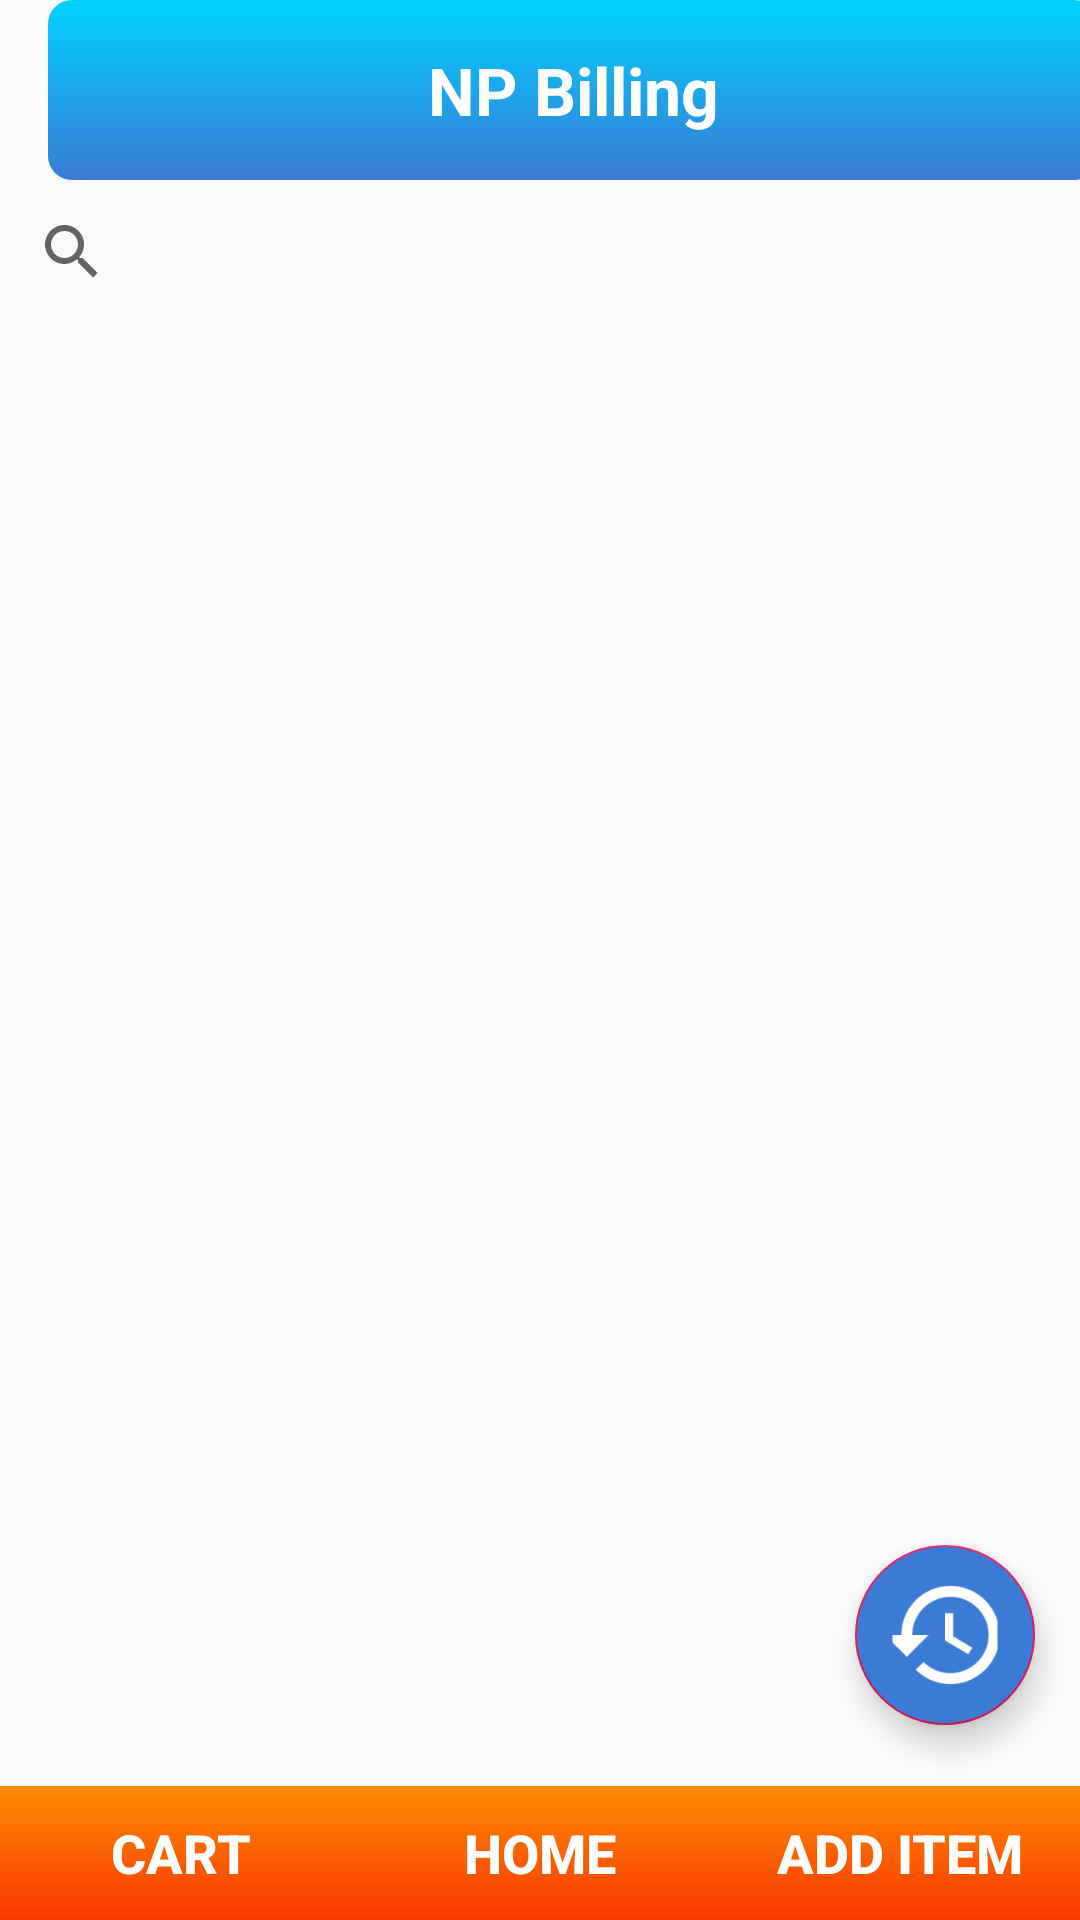

Screen size 1080px×1920px. Icon name, then its center in pixels as (x=x, y=y):
history: (x=945, y=1635)
